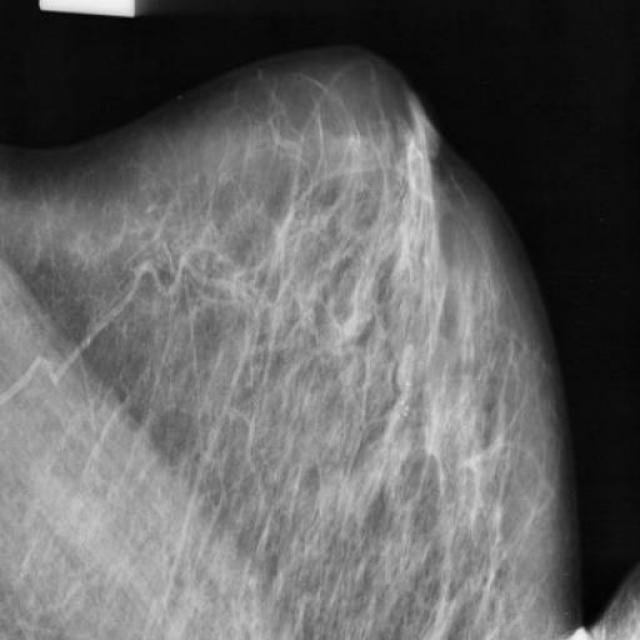cancer: (389, 182, 436, 293)
